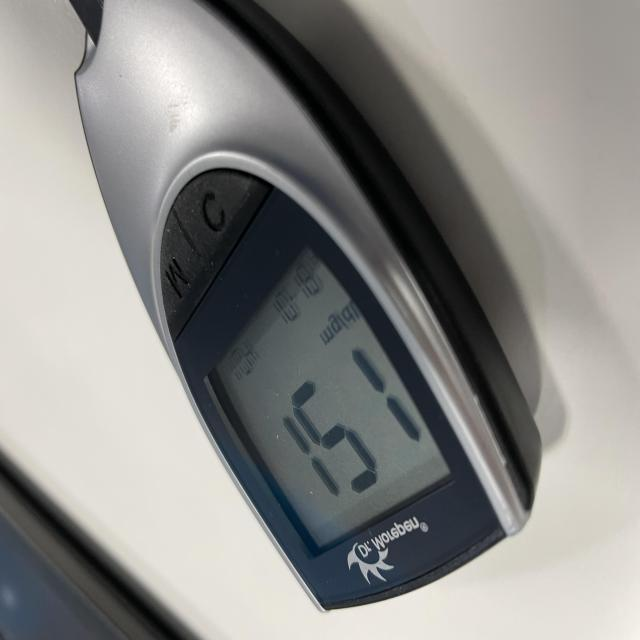gluco: (63, 0, 640, 620)
